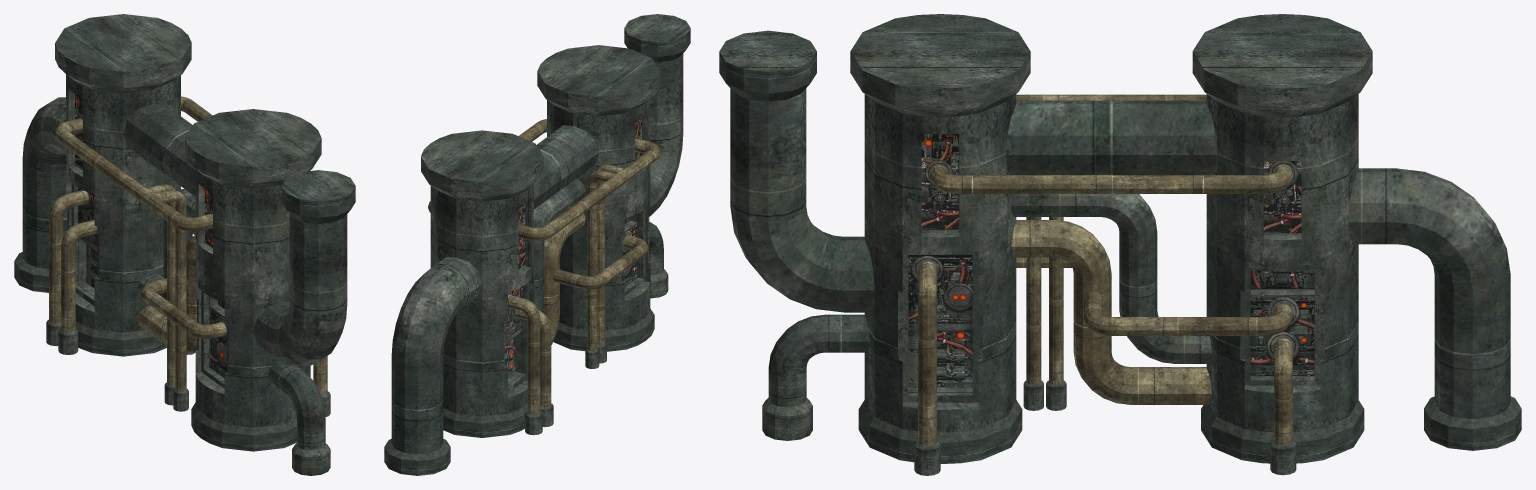
File: bunker_mine_pipes_s02_l0.fbx
3 views of the same model, side by side, from view 1: azimuth 30°, elevation 25°; view 2: azimuth 150°, elevation 25°; view 3: azimuth 270°, elevation 25° (orthographic). The views are drawn at different scales.
Parts seen in each view (by area): view 1: mesh_node; view 2: mesh_node; view 3: mesh_node.
Part boxes in pixels (x1,y1,x2,y2): mesh_node: (14,14,355,475); mesh_node: (384,14,690,475); mesh_node: (719,14,1521,475).
Bounding box in the file's own units: 2.88 × 5.5 × 10.55.
